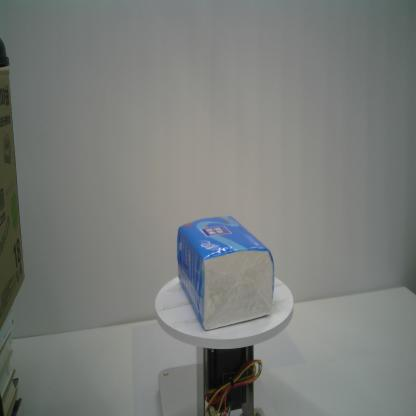Tissue: (176, 215, 275, 332)
